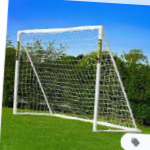goals: (11, 23, 143, 135)
